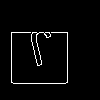J: (25, 25, 61, 76)
